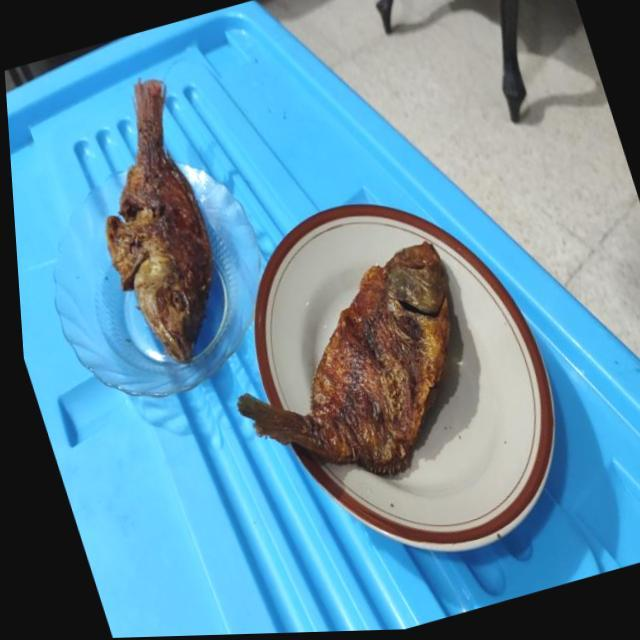ikan_mujair: (238, 243, 450, 474), (106, 79, 212, 362)
